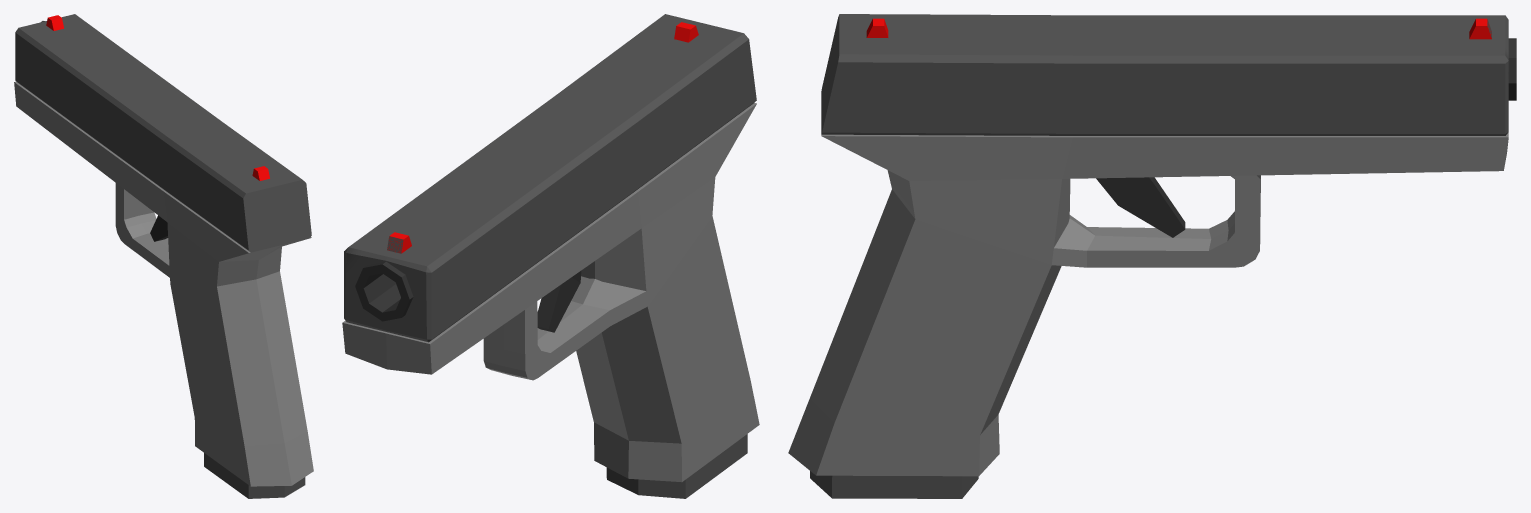
The model's file is Gun V3.fbx.
3 renders of one model, left to right at view 1: azimuth 30°, elevation 25°; view 2: azimuth 150°, elevation 25°; view 3: azimuth 270°, elevation 25°, orthographic. The views are drawn at different scales.
Visible parts, largest first — view 1: Gun Base, Gun Top, Gun Mag, Gun Trigger; view 2: Gun Base, Gun Top, Gun Barrel, Gun Mag, Gun Trigger; view 3: Gun Base, Gun Top, Gun Mag, Gun Trigger.
Boxes of the visible parts, bbox=[...] form: Gun Base: bbox=[14, 81, 313, 486]; Gun Top: bbox=[15, 14, 311, 252]; Gun Mag: bbox=[204, 453, 305, 498]; Gun Trigger: bbox=[150, 215, 168, 241]; Gun Base: bbox=[342, 103, 759, 482]; Gun Top: bbox=[344, 14, 756, 342]; Gun Barrel: bbox=[355, 261, 413, 321]; Gun Mag: bbox=[606, 434, 747, 498]; Gun Trigger: bbox=[537, 271, 581, 332]; Gun Base: bbox=[788, 132, 1508, 476]; Gun Top: bbox=[821, 14, 1508, 135]; Gun Mag: bbox=[810, 471, 978, 498]; Gun Trigger: bbox=[1096, 177, 1185, 237].
Bounding box in the file's own units: 56.01 × 265 × 383.
